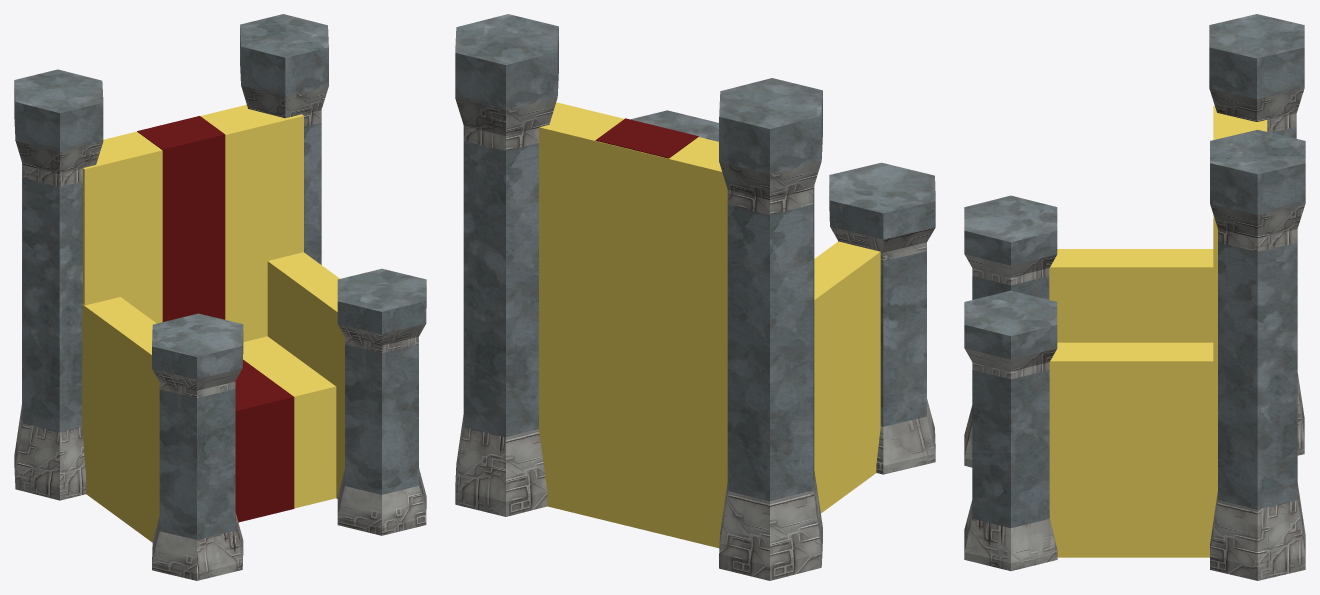
The model's file is Throne.fbx.
The picture shows the model from 3 angles, left to right: view 1: azimuth 30°, elevation 25°; view 2: azimuth 150°, elevation 25°; view 3: azimuth 270°, elevation 25°; orthographic projection. The views are drawn at different scales.
Visible parts, largest first — view 1: mergedBlocks; view 2: mergedBlocks; view 3: mergedBlocks.
Boxes of the visible parts, x1=… form: mergedBlocks: x1=14, y1=14, x2=426, y2=580; mergedBlocks: x1=455, y1=14, x2=935, y2=580; mergedBlocks: x1=964, y1=14, x2=1305, y2=580.
Bounding box in the file's own units: 10.97 × 12.98 × 9.86.
